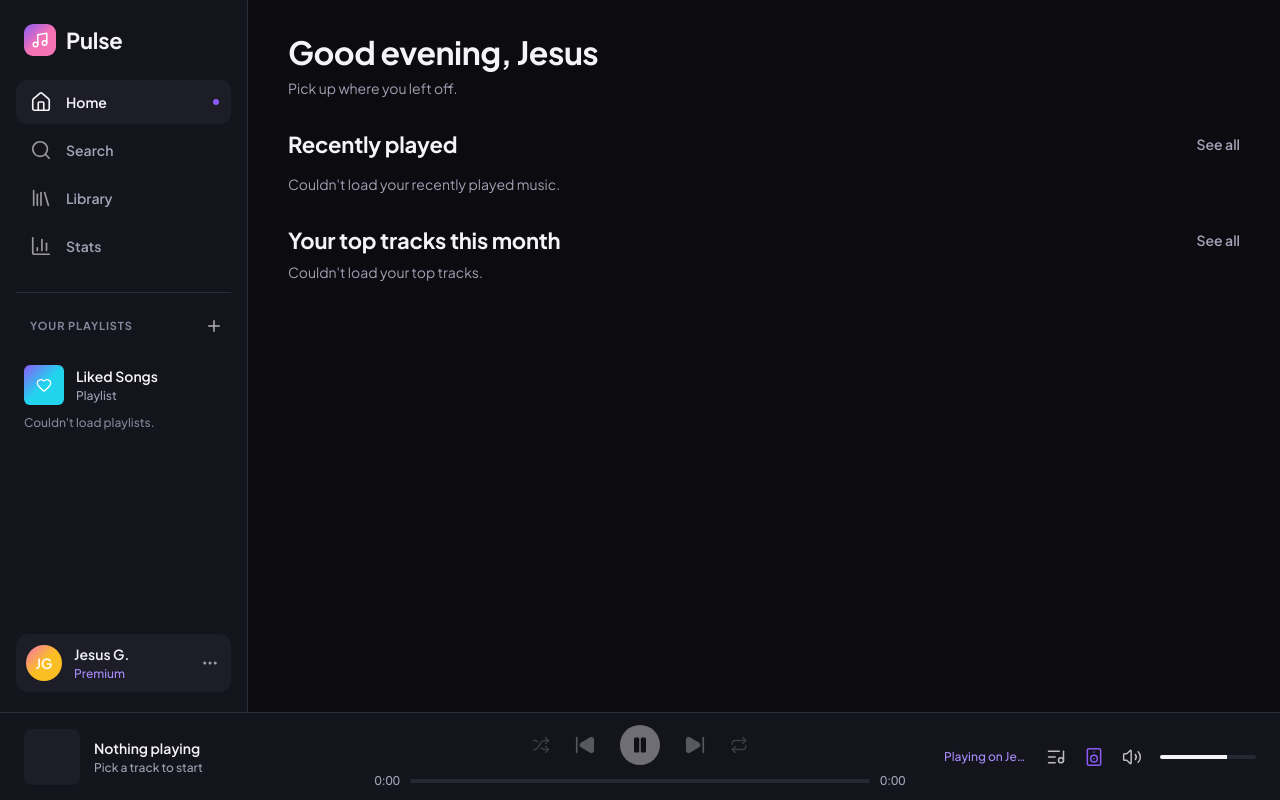
it: DevicePicker › lists devices and transfers playback, keeping play state
The width and height of the screenshot is (1280, 800).
Expected: the text "Jesus G." is shown, [74,645,129,663]
Click the button named "Connect to a device": (1094, 756) [1084,746,1104,766]
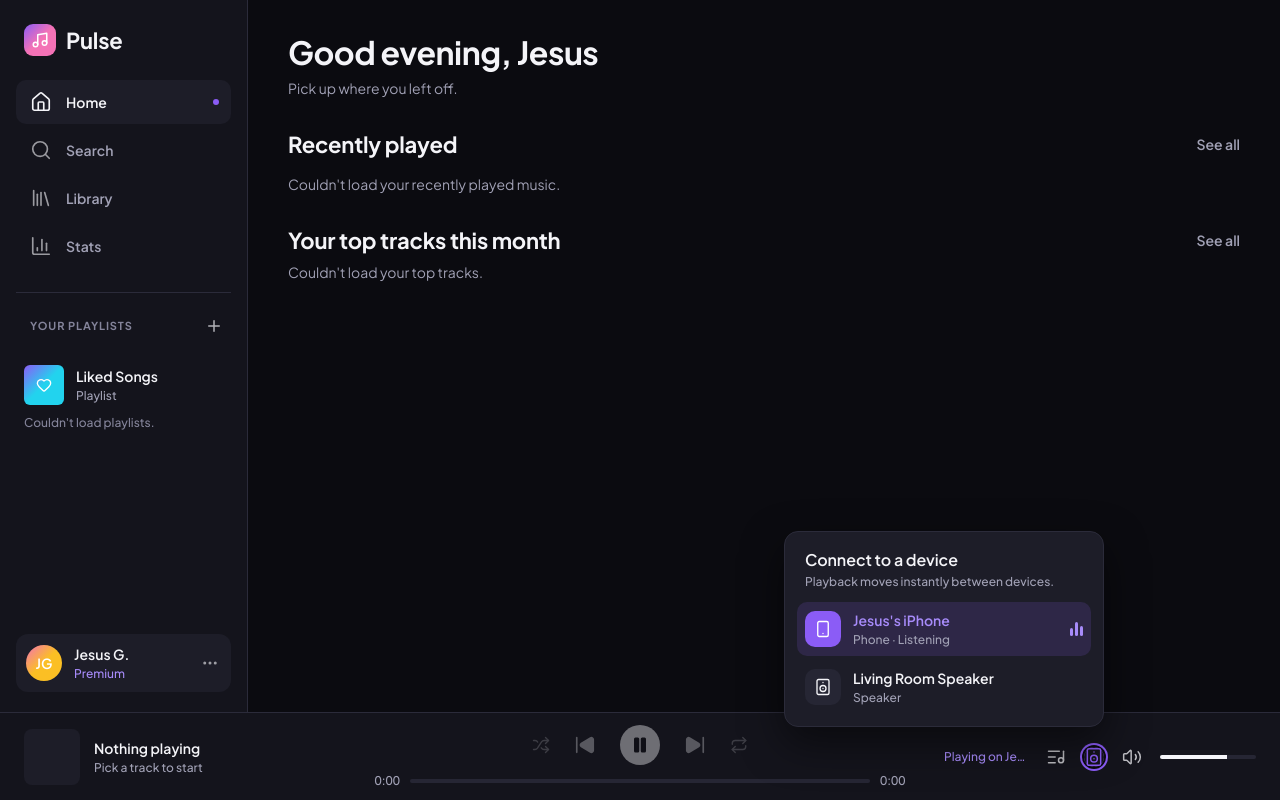
Result: the text "Living Room Speaker" is shown at [853,668,994,686]
Click the button "Living Room Speaker Speaker": (944, 686) [797,660,1091,714]
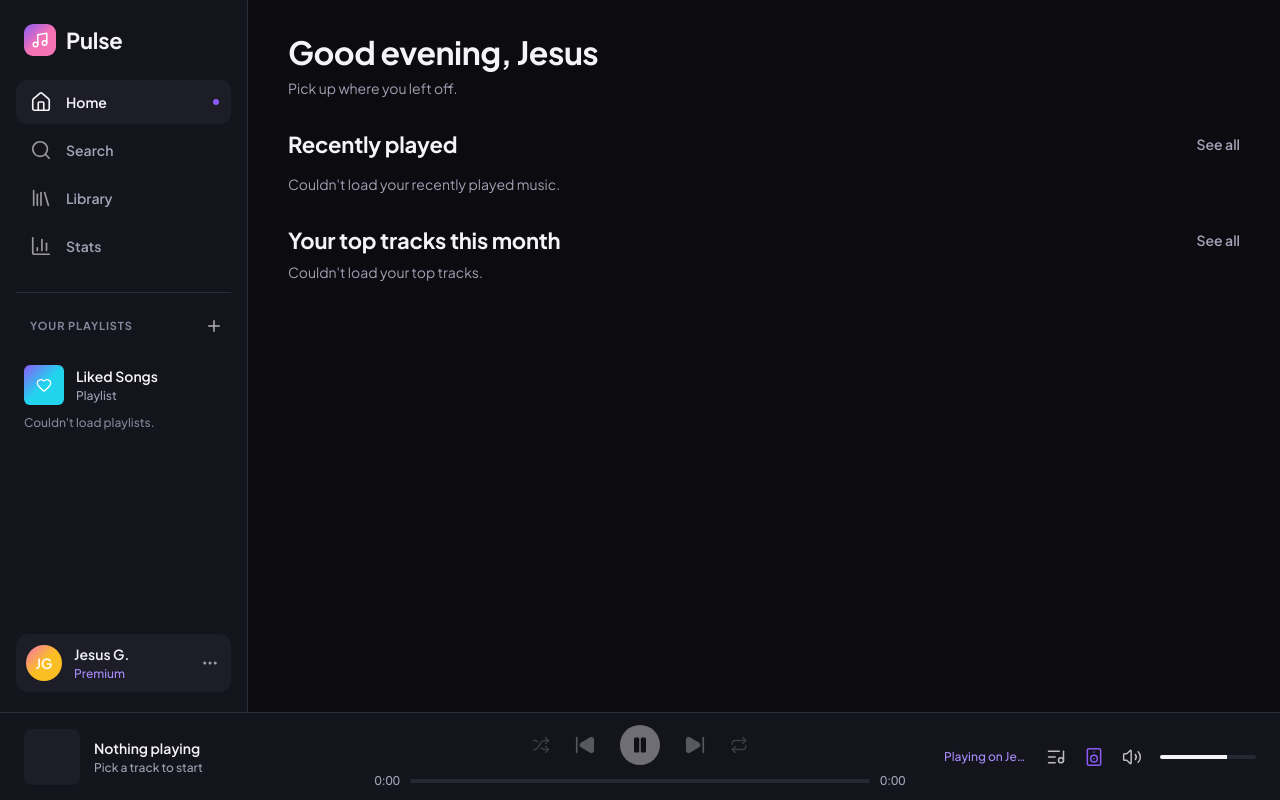
Result: the dialog is gone
